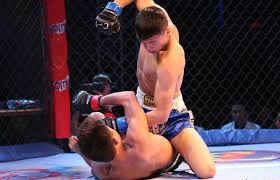fall: (60, 81, 218, 177)
